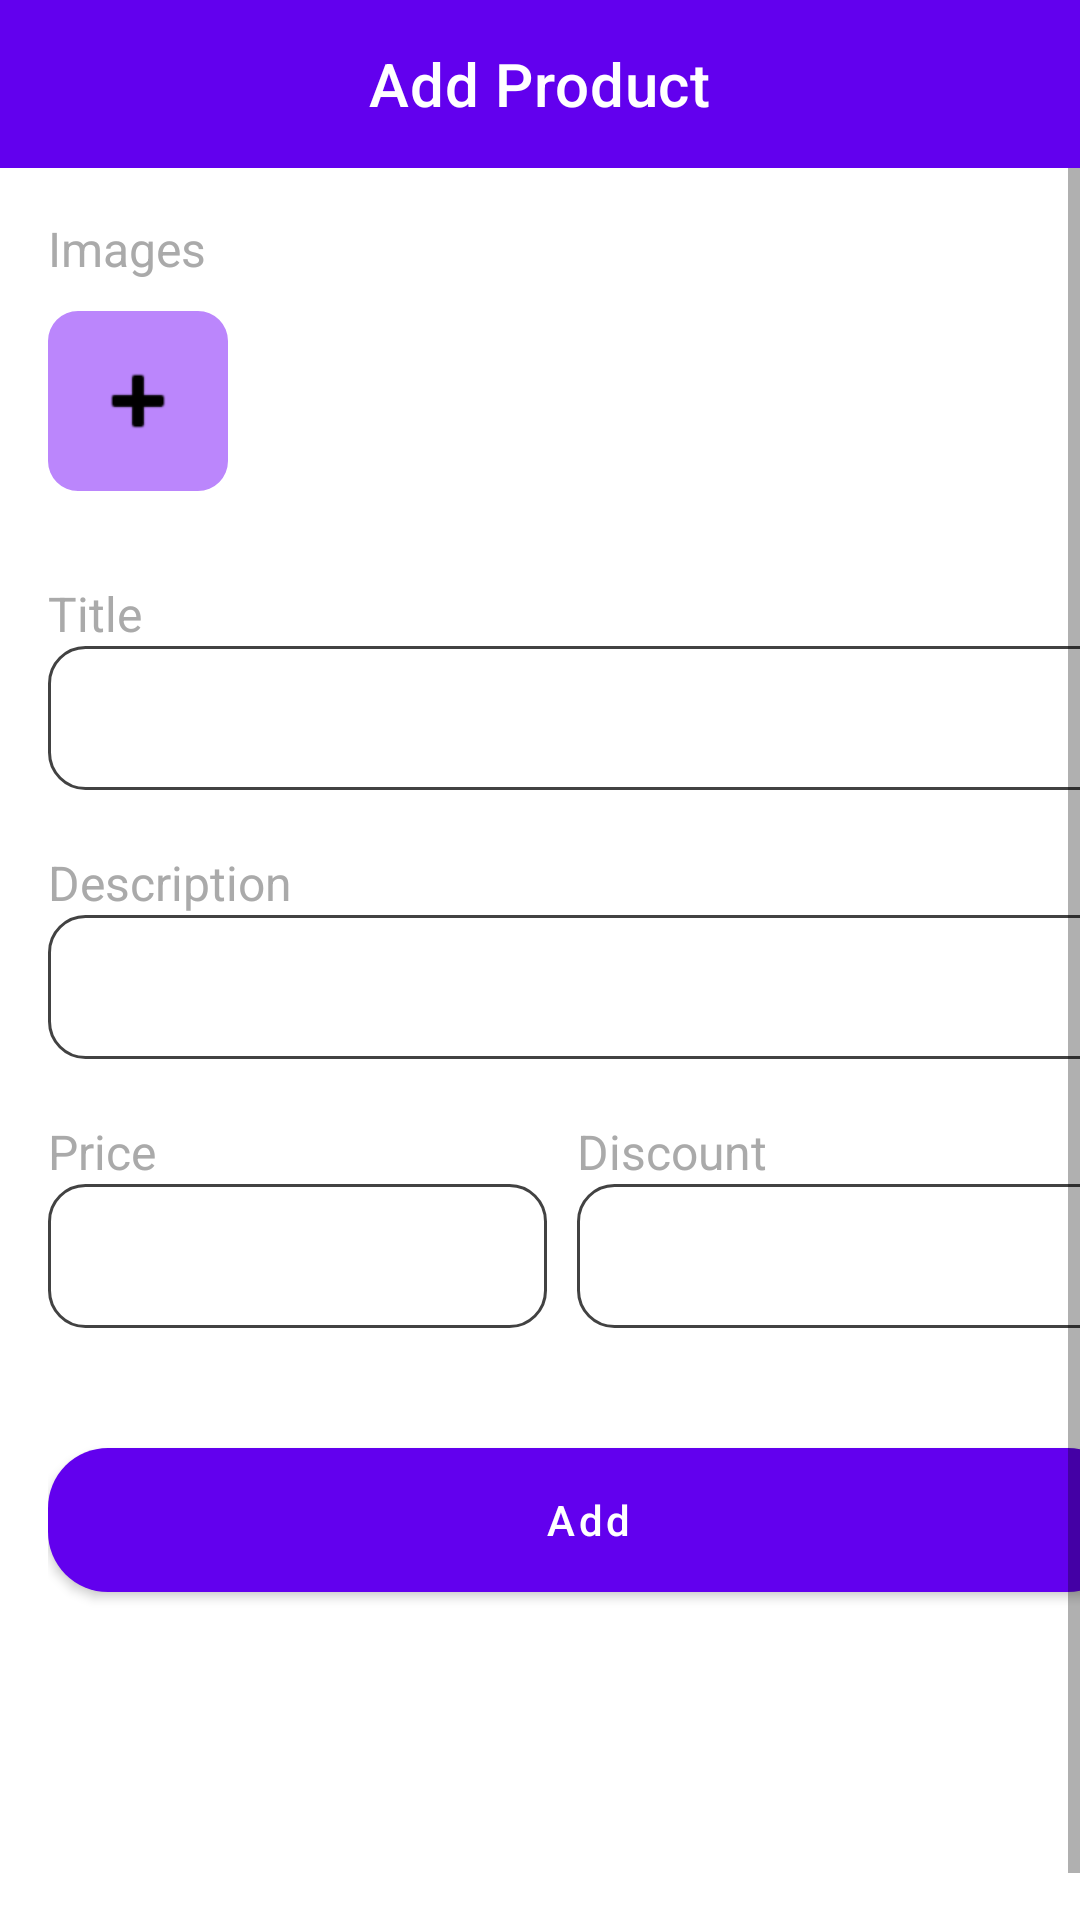

Where icons sit on this 1080×1920 app screen, as (x1, y1, x2, y2):
add: (48, 311, 228, 491)
